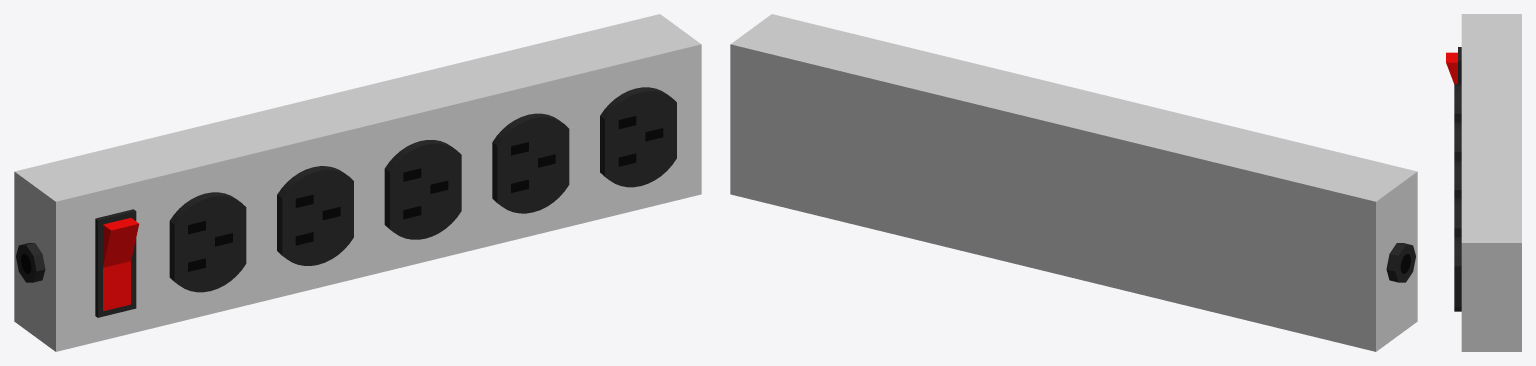
3 renders of one model, left to right at view 1: azimuth 30°, elevation 25°; view 2: azimuth 150°, elevation 25°; view 3: azimuth 270°, elevation 25°, orthographic. The views are drawn at different scales.
Visible parts, largest first — view 1: power strip; view 2: power strip; view 3: power strip.
Part boxes in pixels (x1,y1,x2,y2): power strip: (14,14,701,351); power strip: (730,14,1417,351); power strip: (1446,14,1521,351).
Size of the model in its own units: 9.13 by 2 by 1.26.
